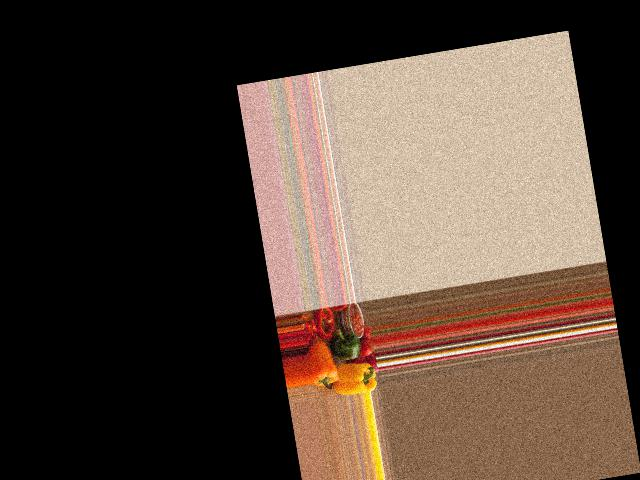bell_pepper: (337, 358, 377, 395)
